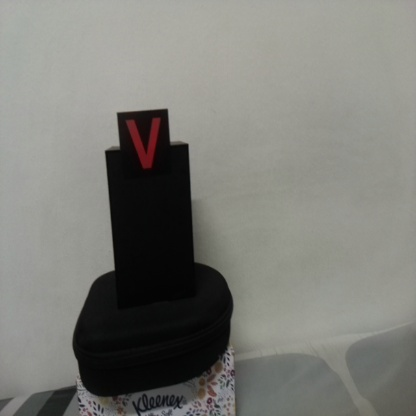id_11: (118, 112, 169, 182)
